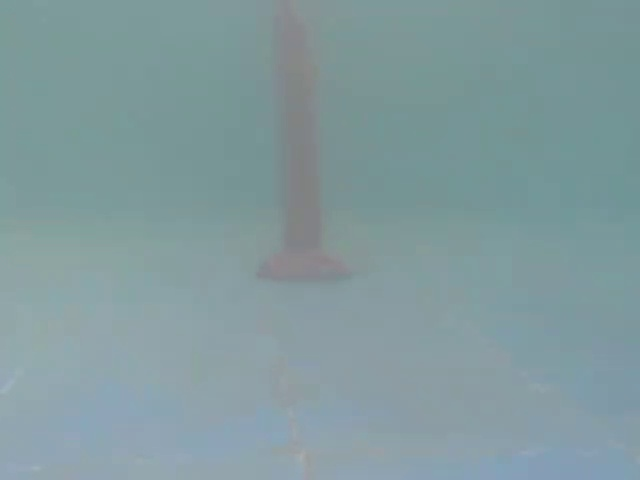flare: (258, 0, 364, 299)
